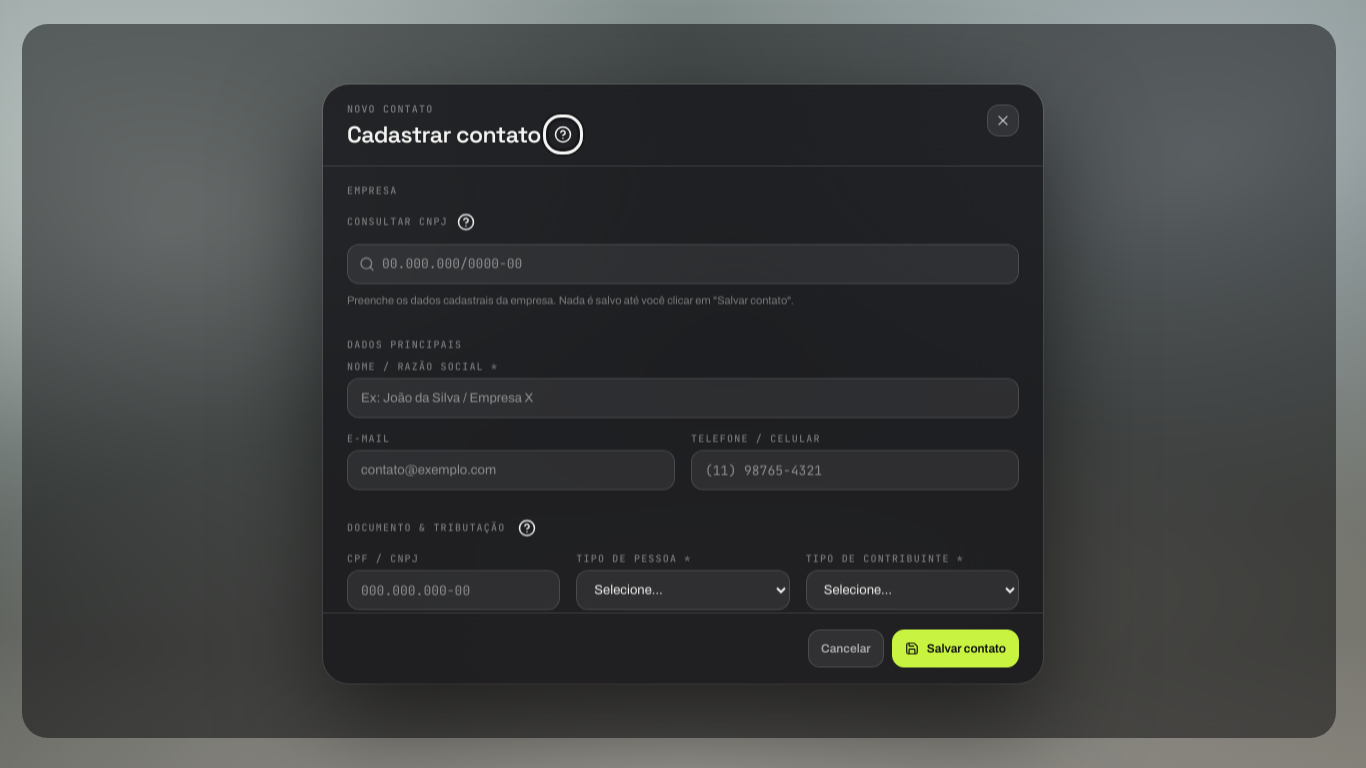
ClienteEditModal: consulta por CNPJ › o que a pessoa já tinha digitado fica, e a tela diz quais campos
The width and height of the screenshot is (1366, 768).
Type "compras@cliente.com" into the field labelled "E-mail" at (511,471), box [347,451,675,491]
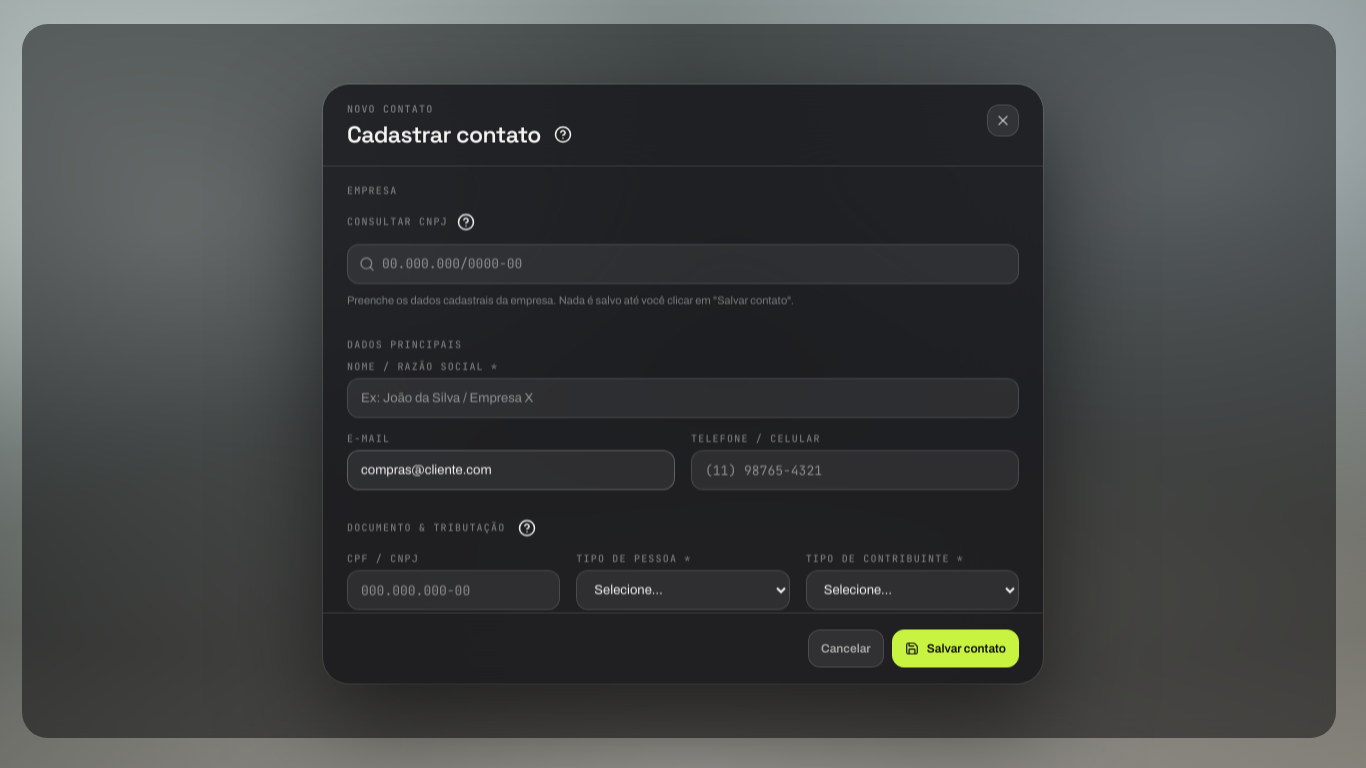
Type "Loja da Esquina" into the field labelled "Nome / Razão social *" at (683,399), box [347,379,1019,419]
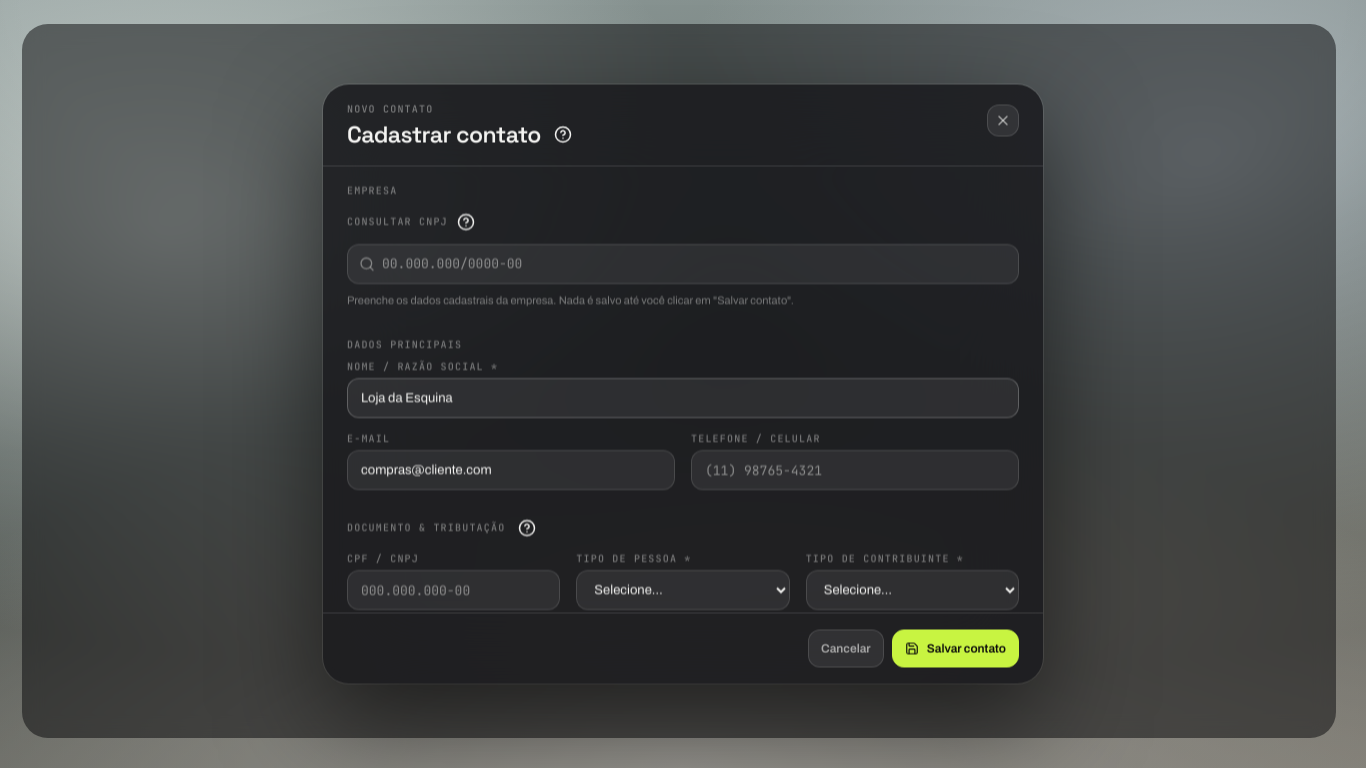
Type "11222333000181" into the field labelled "Consultar CNPJ" at (683,264), box [347,244,1019,284]
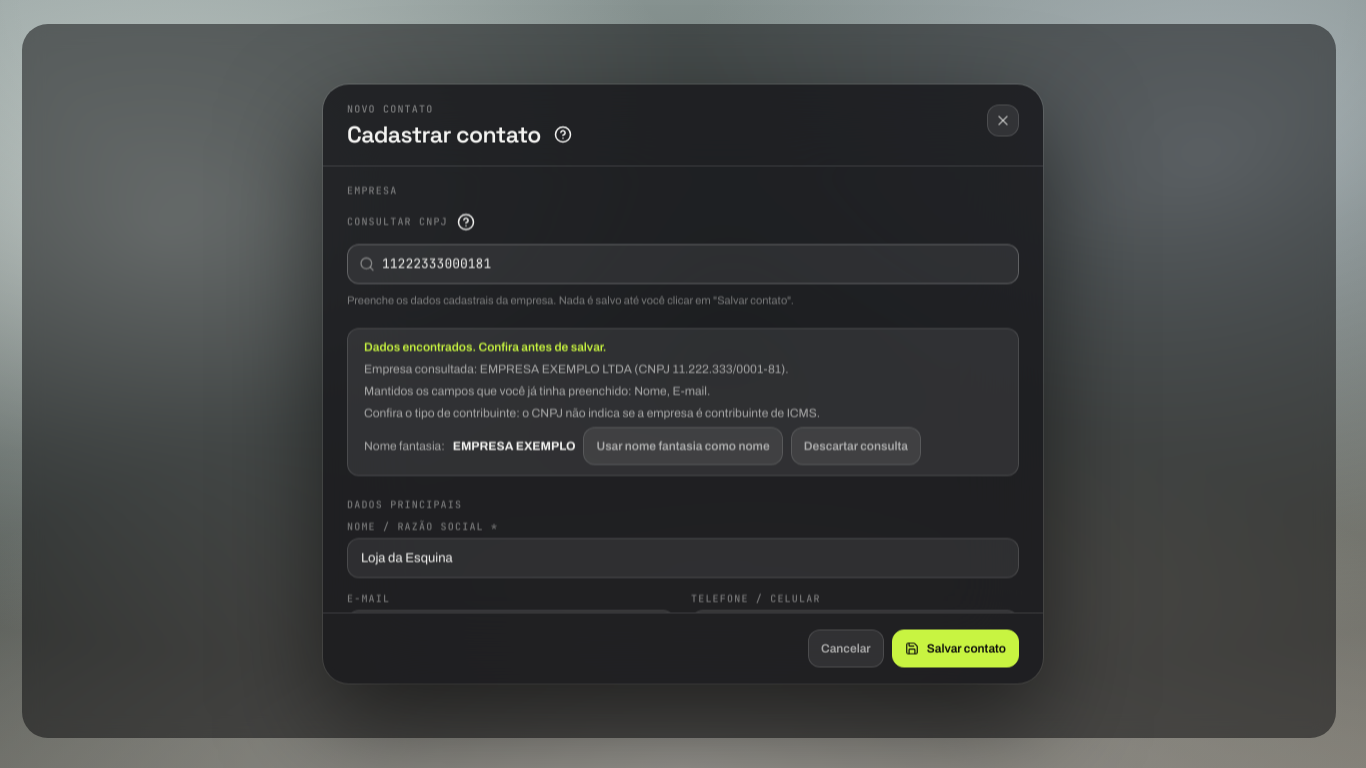
Expected: the text "Mantidos os campos que você já tinha preenchido: Nome, E-mail." is shown, [364,385,710,399]
